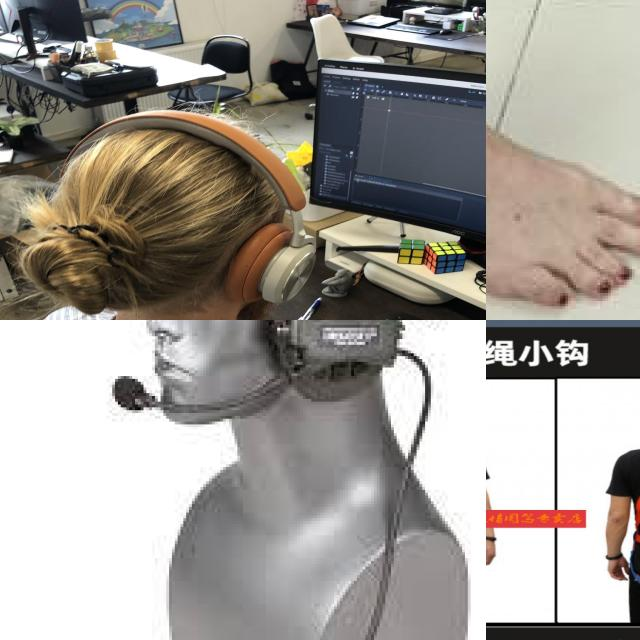Barefoots: (486, 93, 640, 320)
Ear-protection: (39, 111, 318, 320), (197, 320, 448, 419)
